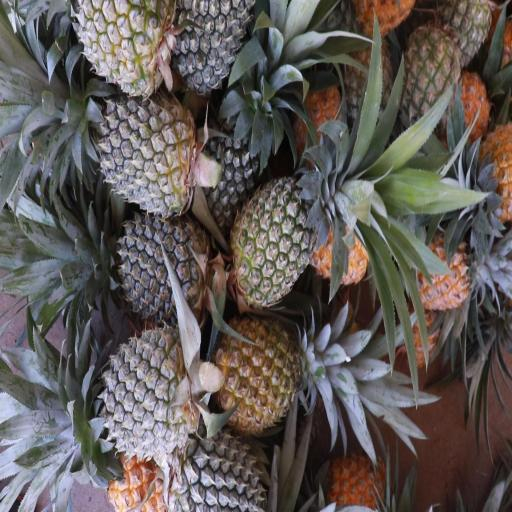------------------------------: (234, 183, 332, 307), (216, 316, 308, 429), (78, 0, 173, 101), (400, 28, 464, 132)
Pineapple - v8 v1: (314, 206, 379, 287), (417, 226, 478, 310)
